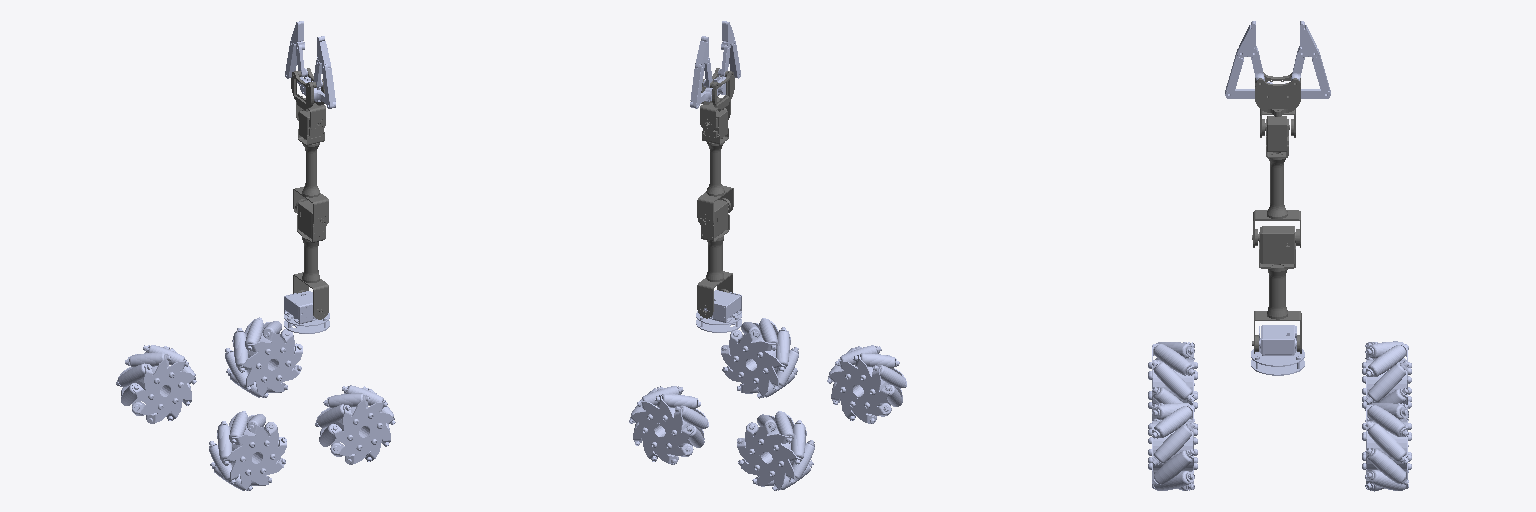
robot.urdf — mirte_master:
<?xml version="1.0" ?>
<!-- =================================================================================== -->
<!-- |    This document was autogenerated by xacro from /home/balaji/ro47007_mirte_ws/src/mirte-ros-packages/mirte_description/mirte_master_description/urdf/mirte_master.xacro | -->
<!-- |    EDITING THIS FILE BY HAND IS NOT RECOMMENDED                                 | -->
<!-- =================================================================================== -->
<robot name="mirte_master">
  <mujoco>
    <visual><global offwidth="1280" offheight="960"/></visual>
    <compiler meshdir="." balanceinertia="true" discardvisual="false" fusestatic="false"/>
  </mujoco>

  <material name="blue">
    <color rgba="0.203125 0.23828125 0.28515625 1.0"/>
  </material>
  <gazebo reference="base_link">
    <material>Gazebo/White</material>
    <gravity>true</gravity>
  </gazebo>
  <gazebo reference="wheel_front_left">
    <selfCollide>false</selfCollide>
    <gravity>true</gravity>
    <mu1>0.0</mu1>
    <mu2>0.0</mu2>
    <material>Gazebo/DarkGrey</material>
  </gazebo>
  <gazebo reference="wheel_rear_left">
    <selfCollide>false</selfCollide>
    <gravity>true</gravity>
    <mu1>0.0</mu1>
    <mu2>0.0</mu2>
    <material>Gazebo/DarkGrey</material>
  </gazebo>
  <gazebo reference="wheel_front_right">
    <selfCollide>false</selfCollide>
    <gravity>true</gravity>
    <mu1>0.0</mu1>
    <mu2>0.0</mu2>
    <material>Gazebo/DarkGrey</material>
  </gazebo>
  <gazebo reference="wheel_rear_right">
    <selfCollide>false</selfCollide>
    <gravity>true</gravity>
    <mu1>0.0</mu1>
    <mu2>0.0</mu2>
    <material>Gazebo/DarkGrey</material>
  </gazebo>
  <ros2_control name="mecanumdrive" type="system">
    <hardware>
      <plugin>gazebo_ros2_control/GazeboSystem</plugin>
    </hardware>
    <joint name="front_left_wheel_joint">
      <command_interface name="velocity"/>
      <state_interface name="position"/>
      <state_interface name="velocity"/>
    </joint>
    <joint name="rear_left_wheel_joint">
      <command_interface name="velocity"/>
      <state_interface name="position"/>
      <state_interface name="velocity"/>
    </joint>
    <joint name="rear_right_wheel_joint">
      <command_interface name="velocity"/>
      <state_interface name="position"/>
      <state_interface name="velocity"/>
    </joint>
    <joint name="front_right_wheel_joint">
      <command_interface name="velocity"/>
      <state_interface name="position"/>
      <state_interface name="velocity"/>
    </joint>
  </ros2_control>
  <ros2_control name="ros2_arm_control" type="system">
    <hardware>
      <plugin>gazebo_ros2_control/GazeboSystem</plugin>
    </hardware>
    <joint name="shoulder_pan_joint">
      <command_interface name="position"/>
      <state_interface name="position"/>
      <state_interface name="velocity"/>
    </joint>
    <joint name="shoulder_lift_joint">
      <command_interface name="position"/>
      <state_interface name="position">
        <param name="initial_value">-1.56</param>
      </state_interface>
      <state_interface name="velocity"/>
    </joint>
    <joint name="elbow_joint">
      <command_interface name="position"/>
      <state_interface name="position">
        <param name="initial_value">-1.56</param>
      </state_interface>
      <state_interface name="velocity"/>
    </joint>
    <joint name="wrist_joint">
      <command_interface name="position"/>
      <state_interface name="position">
        <param name="initial_value">1.56</param>
      </state_interface>
      <state_interface name="velocity"/>
    </joint>
  </ros2_control>
  <ros2_control name="ros2_gripper_control" type="system">
    <hardware>
      <plugin>gazebo_ros2_control/GazeboSystem</plugin>
    </hardware>
    <joint name="gripper_joint">
      <command_interface name="position"/>
      <state_interface name="position"/>
      <state_interface name="velocity"/>
    </joint>
    <joint name="_Gripper_joint_r">
      <param name="mimic">gripper_joint</param>
      <param name="multiplier">-1</param>
      <command_interface name="position"/>
      <state_interface name="position"/>
      <state_interface name="velocity"/>
    </joint>
    <joint name="_gripper_link_joint_l">
      <param name="mimic">gripper_joint</param>
      <param name="multiplier">-1.4</param>
      <command_interface name="position"/>
      <state_interface name="position"/>
      <state_interface name="velocity"/>
    </joint>
    <joint name="_gripper_link_joint_r">
      <param name="mimic">gripper_joint</param>
      <param name="multiplier">1.4</param>
      <command_interface name="position"/>
      <state_interface name="position"/>
      <state_interface name="velocity"/>
    </joint>
  </ros2_control>
  <gazebo>
    <plugin filename="libgazebo_ros2_control.so" name="gazebo_ros2_control">
      <parameters>/home/balaji/ro47007_mirte_ws/install/share/mirte_base_control/config/mirte_base_control.yaml</parameters>
      <parameters>/home/balaji/ro47007_mirte_ws/install/share/mirte_master_arm_control/config/mirte_master_arm_control.yaml</parameters>
    </plugin>
    <plugin filename="libgazebo_ros_planar_move.so" name="gazebo_planar_move">
      <robot_base_frame>base_link</robot_base_frame>
    </plugin>
    <plugin filename="libgazebo_ros_p3d.so" name="libgazebo_ros_p3d">
      <ros>
        <namespace>groundtruth</namespace>
        <remapping>odom:=odom</remapping>
      </ros>
      <frame_name>world</frame_name>
      <body_name>base_link</body_name>
      <update_rate>200.0</update_rate>
      <gaussian_noise>0.0</gaussian_noise>
    </plugin>
  </gazebo>
  <link name="base_link"/>
  <gazebo reference="base_link">
    <kinematic>1</kinematic>
  </gazebo>
  <joint name="frame_base_joint" type="fixed">
    <origin rpy="0 0 1.5707963267948966" xyz="0 0 0.10"/>
    <parent link="base_link"/>
    <child link="frame_link"/>
  </joint>
  <link name="frame_link">
    <inertial>
      <origin xyz="-0.00024285 0.0082178 -0.0437661"/>
      <mass value="5.0"/>
      <inertia ixx="0.03416666666666667" ixy="0" ixz="0" iyy="0.016541666666666666" iyz="0" izz="0.047708333333333346"/>
    </inertial>
    <visual>
      <geometry>
        <mesh filename="meshes/frame_link.STL"/>
      </geometry>
      <material name="">
        <color rgba="0.52941 0.54902 0.54902 1"/>
      </material>
    </visual>
    <collision>
      <origin xyz="0 0 -0.03"/>
      <geometry>
        <box size="0.19 0.28 0.06"/>
      </geometry>
    </collision>
    <collision>
      <origin xyz="0 0.05 0.045"/>
      <geometry>
        <box size="0.18 0.16 0.05"/>
      </geometry>
    </collision>
    <collision>
      <origin rpy="0 0 0.5672320068981571" xyz="-0.062156 -0.002558 0.0125"/>
      <geometry>
        <box size="0.013 0.03 0.025"/>
      </geometry>
    </collision>
    <collision>
      <origin rpy="0 0 -0.5672320068981571" xyz="0.064835 0.001664 0.0125"/>
      <geometry>
        <box size="0.013 0.04 0.025"/>
      </geometry>
    </collision>
  </link>
  <!-- 0.025   -1 -->
  <link name="front_left_wheel">
    <inertial>
      <origin xyz="0 0 0.025"/>
      <mass value="2.15"/>
      <inertia ixx="0.0018857291666666668" ixy="0" ixz="0" iyy="0.0018857291666666668" iyz="0" izz="0.0026875000000000002"/>
    </inertial>
    <visual>
      <geometry>
        <mesh filename="meshes/wheel_left.STL"/>
      </geometry>
      <material name="">
        <color rgba="0.79216 0.81961 0.93333 1"/>
      </material>
    </visual>
    <collision>
      <origin xyz="0 0 0.025"/>
      <geometry>
        <cylinder length="0.055" radius="0.05"/>
      </geometry>
    </collision>
  </link>
  <joint name="front_left_wheel_joint" type="continuous">
    <origin rpy="1.5708 0 -1.5708" xyz="0.153 -0.085 -0.0455"/>
    <parent link="frame_link"/>
    <child link="front_left_wheel"/>
    <axis xyz="0 0 -1"/>
  </joint>
  <transmission name="front_left_wheel_transmission">
    <type>transmission_interface/SimpleTransmission</type>
    <joint name="front_left_wheel_joint">
      <hardwareInterface>hardware_interface/VelocityJointInterface</hardwareInterface>
    </joint>
    <actuator name="front_left_wheel_actuator">
      <mechanicalReduction>1</mechanicalReduction>
    </actuator>
  </transmission>
  <link name="rear_left_wheel">
    <inertial>
      <origin xyz="0 0 0.025"/>
      <mass value="2.15"/>
      <inertia ixx="0.0018857291666666668" ixy="0" ixz="0" iyy="0.0018857291666666668" iyz="0" izz="0.0026875000000000002"/>
    </inertial>
    <visual>
      <geometry>
        <mesh filename="meshes/wheel_right.STL"/>
      </geometry>
      <material name="">
        <color rgba="0.79216 0.81961 0.93333 1"/>
      </material>
    </visual>
    <collision>
      <origin xyz="0 0 0.025"/>
      <geometry>
        <cylinder length="0.055" radius="0.05"/>
      </geometry>
    </collision>
  </link>
  <joint name="rear_left_wheel_joint" type="continuous">
    <origin rpy="1.5708 0 -1.5708" xyz="0.153 0.085 -0.0455"/>
    <parent link="frame_link"/>
    <child link="rear_left_wheel"/>
    <axis xyz="0 0 -1"/>
  </joint>
  <transmission name="rear_left_wheel_transmission">
    <type>transmission_interface/SimpleTransmission</type>
    <joint name="rear_left_wheel_joint">
      <hardwareInterface>hardware_interface/VelocityJointInterface</hardwareInterface>
    </joint>
    <actuator name="rear_left_wheel_actuator">
      <mechanicalReduction>1</mechanicalReduction>
    </actuator>
  </transmission>
  <link name="front_right_wheel">
    <inertial>
      <origin xyz="0 0 -0.025"/>
      <mass value="2.15"/>
      <inertia ixx="0.0018857291666666668" ixy="0" ixz="0" iyy="0.0018857291666666668" iyz="0" izz="0.0026875000000000002"/>
    </inertial>
    <visual>
      <geometry>
        <mesh filename="meshes/wheel_right.STL"/>
      </geometry>
      <material name="">
        <color rgba="0.79216 0.81961 0.93333 1"/>
      </material>
    </visual>
    <collision>
      <origin xyz="0 0 -0.025"/>
      <geometry>
        <cylinder length="0.055" radius="0.05"/>
      </geometry>
    </collision>
  </link>
  <joint name="front_right_wheel_joint" type="continuous">
    <origin rpy="1.5708 0 -1.5708" xyz="-0.098 -0.085 -0.0455"/>
    <parent link="frame_link"/>
    <child link="front_right_wheel"/>
    <axis xyz="0 0 -1"/>
  </joint>
  <transmission name="front_right_wheel_transmission">
    <type>transmission_interface/SimpleTransmission</type>
    <joint name="front_right_wheel_joint">
      <hardwareInterface>hardware_interface/VelocityJointInterface</hardwareInterface>
    </joint>
    <actuator name="front_right_wheel_actuator">
      <mechanicalReduction>1</mechanicalReduction>
    </actuator>
  </transmission>
  <link name="rear_right_wheel">
    <inertial>
      <origin xyz="0 0 -0.025"/>
      <mass value="2.15"/>
      <inertia ixx="0.0018857291666666668" ixy="0" ixz="0" iyy="0.0018857291666666668" iyz="0" izz="0.0026875000000000002"/>
    </inertial>
    <visual>
      <geometry>
        <mesh filename="meshes/wheel_left.STL"/>
      </geometry>
      <material name="">
        <color rgba="0.79216 0.81961 0.93333 1"/>
      </material>
    </visual>
    <collision>
      <origin xyz="0 0 -0.025"/>
      <geometry>
        <cylinder length="0.055" radius="0.05"/>
      </geometry>
    </collision>
  </link>
  <joint name="rear_right_wheel_joint" type="continuous">
    <origin rpy="1.5708 0 -1.5708" xyz="-0.098 0.085 -0.0455"/>
    <parent link="frame_link"/>
    <child link="rear_right_wheel"/>
    <axis xyz="0 0 -1"/>
  </joint>
  <transmission name="rear_right_wheel_transmission">
    <type>transmission_interface/SimpleTransmission</type>
    <joint name="rear_right_wheel_joint">
      <hardwareInterface>hardware_interface/VelocityJointInterface</hardwareInterface>
    </joint>
    <actuator name="rear_right_wheel_actuator">
      <mechanicalReduction>1</mechanicalReduction>
    </actuator>
  </transmission>
  <link name="shoulder_pan">
    <inertial>
      <origin rpy="0 0 0" xyz="-1.27894101951934E-05 0.0208058767653727 0.00585680210359747"/>
      <mass value="0.0689676051678483"/>
      <inertia ixx="1.10736817655159E-05" ixy="-9.06572517495388E-09" ixz="-2.13237951815141E-10" iyy="2.24480121987499E-05" iyz="-4.10984989642458E-07" izz="1.70252517510809E-05"/>
    </inertial>
    <visual>
      <origin rpy="0 0 0" xyz="0 0 0"/>
      <geometry>
        <mesh filename="meshes/arm_Rot.STL"/>
      </geometry>
      <material name="">
        <color rgba="0.792156862745098 0.819607843137255 0.933333333333333 1"/>
      </material>
    </visual>
    <collision>
      <origin rpy="0 0 0" xyz="0 0 0"/>
      <geometry>
        <mesh filename="meshes/arm_Rot.STL"/>
      </geometry>
    </collision>
  </link>
  <joint name="shoulder_pan_joint" type="revolute">
    <origin rpy="1.5708 0 3.1416" xyz="0 -0.079274 0.06"/>
    <parent link="frame_link"/>
    <child link="shoulder_pan"/>
    <axis xyz="0 1 0"/>
    <limit effort="2.0" lower="-1.5707963267948966" upper="1.5707963267948966" velocity="2.0"/>
  </joint>
  <link name="shoulder_lift">
    <inertial>
      <origin rpy="0 0 0" xyz="0.0764974362945755 0.000442680770353329 -4.93690401059954E-09"/>
      <mass value="0.104616018825837"/>
      <inertia ixx="3.85677839717214E-05" ixy="1.84827309047044E-08" ixz="1.42612941509626E-12" iyy="2.54245117502168E-05" iyz="-2.05142765424474E-12" izz="5.51611966703411E-05"/>
    </inertial>
    <visual>
      <origin rpy="0 0 0" xyz="0 0 0"/>
      <geometry>
        <mesh filename="meshes/arm_Shoulder.STL"/>
      </geometry>
      <material name="">
        <color rgba="0.501960784313725 0.501960784313725 0.501960784313725 1"/>
      </material>
    </visual>
    <collision>
      <origin rpy="0 0 0" xyz="0 0 0"/>
      <geometry>
        <mesh filename="meshes/arm_Shoulder.STL"/>
      </geometry>
    </collision>
  </link>
  <joint name="shoulder_lift_joint" type="revolute">
    <origin rpy="3.1416 0 1.5708" xyz="0 0.0281 -0.00625"/>
    <parent link="shoulder_pan"/>
    <child link="shoulder_lift"/>
    <axis xyz="0 1 0"/>
    <limit effort="2.0" lower="-1.5707963267948966" upper="1.5707963267948966" velocity="2.0"/>
  </joint>
  <link name="elbow">
    <inertial>
      <origin rpy="0 0 0" xyz="0.000768647609078278 0.0642294520091309 -2.34835863116567E-08"/>
      <mass value="0.0709795960901316"/>
      <inertia ixx="2.06491501981418E-05" ixy="1.76077623308388E-08" ixz="-6.06300089698489E-13" iyy="2.45686930201746E-05" iyz="3.04033870141042E-12" izz="3.79131240892547E-05"/>
    </inertial>
    <visual>
      <origin rpy="0 0 0" xyz="0 0 0"/>
      <geometry>
        <mesh filename="meshes/arm_Elbow.STL"/>
      </geometry>
      <material name="">
        <color rgba="0.501960784313725 0.501960784313725 0.501960784313725 1"/>
      </material>
    </visual>
    <collision>
      <origin rpy="0 0 0" xyz="0 0 0"/>
      <geometry>
        <mesh filename="meshes/arm_Elbow.STL"/>
      </geometry>
    </collision>
  </link>
  <joint name="elbow_joint" type="revolute">
    <origin rpy="-3.1416 0 1.5708" xyz="0.1378 0 0"/>
    <parent link="shoulder_lift"/>
    <child link="elbow"/>
    <axis xyz="1 0 0"/>
    <limit effort="2.0" lower="-1.5707963267948966" upper="1.5707963267948966" velocity="2.0"/>
  </joint>
  <link name="wrist">
    <inertial>
      <origin rpy="0 0 0" xyz="0.0225315136140379 0.000488092971965825 -2.74405760168628E-06"/>
      <mass value="0.0464803878756425"/>
      <inertia ixx="1.36228105923869E-05" ixy="-2.7486243117372E-08" ixz="-2.82180089490711E-08" iyy="7.22412070962973E-06" iyz="3.4652740053439E-09" izz="1.75204377049058E-05"/>
    </inertial>
    <visual>
      <origin rpy="0 0 0" xyz="0 0 0"/>
      <geometry>
        <mesh filename="meshes/arm_Wrist.STL"/>
      </geometry>
      <material name="">
        <color rgba="0.501960784313725 0.501960784313725 0.501960784313725 1"/>
      </material>
    </visual>
    <collision>
      <origin rpy="0 0 0" xyz="0 0 0"/>
      <geometry>
        <mesh filename="meshes/arm_Wrist.STL"/>
      </geometry>
    </collision>
  </link>
  <joint name="wrist_joint" type="revolute">
    <origin rpy="3.1416 0 1.5708" xyz="-0.00014 0.14265 0"/>
    <parent link="elbow"/>
    <child link="wrist"/>
    <axis xyz="0 1 0"/>
    <limit effort="2.0" lower="-1.5707963267948966" upper="1.5707963267948966" velocity="2.0"/>
  </joint>
  <link name="gripper">
    <inertial>
      <origin rpy="0 0 0" xyz="0.0128439388984141 0.00467107677719844 -0.023531822516204"/>
      <mass value="0.0109603788959771"/>
      <inertia ixx="1.64287457972505E-06" ixy="-2.54915969005551E-10" ixz="-3.17766452649769E-07" iyy="2.96639543247368E-06" iyz="-7.8877045337556E-08" izz="1.49193844890504E-06"/>
    </inertial>
    <visual>
      <origin rpy="0 0 0" xyz="0 0 0"/>
      <geometry>
        <mesh filename="meshes/Gripper.STL"/>
      </geometry>
      <material name="">
        <color rgba="0.792156862745098 0.819607843137255 0.933333333333333 1"/>
      </material>
    </visual>
    <collision>
      <origin rpy="0 0 0" xyz="0 0 0"/>
      <geometry>
        <mesh filename="meshes/Gripper.STL"/>
      </geometry>
    </collision>
  </link>
  <joint name="gripper_joint" type="revolute">
    <origin rpy="-1.5708 0 0" xyz="0.0435 -0.012 0.0045"/>
    <parent link="wrist"/>
    <child link="gripper"/>
    <axis xyz="0 -1 0"/>
    <limit effort="2.0" lower="-.20" upper="0.25" velocity="2.0"/>
  </joint>
  <link name="_gripper_link_r">
    <inertial>
      <origin rpy="0 0 0" xyz="-1.28017477174502E-08 0.00327806945611438 -0.015628977594268"/>
      <mass value="0.00257857268754656"/>
      <inertia ixx="4.78055533789155E-07" ixy="-5.230783542464E-14" ixz="-2.66258471113313E-13" iyy="4.85504704619794E-07" iyz="-3.012555423281E-08" izz="3.42900323604584E-08"/>
    </inertial>
    <visual>
      <origin rpy="0 0 0" xyz="0 0 0"/>
      <geometry>
        <mesh filename="meshes/_gripper_link_r.STL"/>
      </geometry>
      <material name="">
        <color rgba="0.792156862745098 0.819607843137255 0.933333333333333 1"/>
      </material>
    </visual>
    <collision>
      <origin rpy="0 0 0" xyz="0 0 0"/>
      <geometry>
        <mesh filename="meshes/_gripper_link_r.STL"/>
      </geometry>
    </collision>
  </link>
  <joint name="_gripper_link_joint_r" type="revolute">
    <origin rpy="1.5708 0 -1.3641" xyz="0.0605 0.0205 -0.0055"/>
    <parent link="wrist"/>
    <child link="_gripper_link_r"/>
    <axis xyz="0 -1 0"/>
    <limit effort="0.0" lower="-3.14" upper="3.14" velocity="0.0"/>
    <mimic joint="gripper_joint" multiplier="1.4"/>
  </joint>
  <link name="gripper_finger_r">
    <inertial>
      <origin rpy="0 0 0" xyz="0.0053582194655247 0.00456985538673528 -0.0146658643393019"/>
      <mass value="0.00531205810762776"/>
      <inertia ixx="6.56191216382328E-07" ixy="4.9417968242523E-09" ixz="-1.23756532787867E-07" iyy="7.67327744037516E-07" iyz="3.35637410041389E-08" izz="1.97644006824673E-07"/>
    </inertial>
    <visual>
      <origin rpy="0 0 0" xyz="0 0 0"/>
      <geometry>
        <mesh filename="meshes/gripper_finger_r.STL"/>
      </geometry>
      <material name="">
        <color rgba="0.792156862745098 0.819607843137255 0.933333333333333 1"/>
      </material>
    </visual>
    <collision>
      <origin rpy="0 0 0" xyz="0 0 0"/>
      <geometry>
        <mesh filename="meshes/gripper_finger_r.STL"/>
      </geometry>
    </collision>
  </link>
  <joint name="gripper_finger_joint_r" type="fixed">
    <origin rpy="0 0.20667 3.1416" xyz="0 0.01 -0.037"/>
    <parent link="_gripper_link_r"/>
    <child link="gripper_finger_r"/>
    <axis xyz="0 0 1"/>
  </joint>
  <link name="_gripper_link_l">
    <inertial>
      <origin rpy="0 0 0" xyz="-2.05686406795635E-09 0.00327805387383495 -0.0156289677422455"/>
      <mass value="0.0025785751096632"/>
      <inertia ixx="4.78055731035803E-07" ixy="1.11114248069431E-14" ixz="5.45978048241403E-14" iyy="4.85504889003676E-07" iyz="-3.01256260104972E-08" izz="3.4290092499709E-08"/>
    </inertial>
    <visual>
      <origin rpy="0 0 0" xyz="0 0 0"/>
      <geometry>
        <mesh filename="meshes/_gripper_link_l.STL"/>
      </geometry>
      <material name="">
        <color rgba="0.792156862745098 0.819607843137255 0.933333333333333 1"/>
      </material>
    </visual>
    <collision>
      <origin rpy="0 0 0" xyz="0 0 0"/>
      <geometry>
        <mesh filename="meshes/_gripper_link_l.STL"/>
      </geometry>
    </collision>
  </link>
  <joint name="_gripper_link_joint_l" type="revolute">
    <origin rpy="1.5708 0 -1.7775" xyz="0.0605 -0.0205 -0.0055"/>
    <parent link="wrist"/>
    <child link="_gripper_link_l"/>
    <axis xyz="0 -1 0"/>
    <limit effort="0.0" lower="-3.14" upper="3.14" velocity="0.0"/>
    <mimic joint="gripper_joint" multiplier="-1.4"/>
  </joint>
  <link name="gripper_finger_l">
    <inertial>
      <origin rpy="0 0 0" xyz="0.00535821399237165 0.00543015238565805 -0.0146658496889369"/>
      <mass value="0.00531205810762777"/>
      <inertia ixx="6.56191216382329E-07" ixy="-4.94179682425222E-09" ixz="-1.23756532787868E-07" iyy="7.67327744037519E-07" iyz="-3.35637410041387E-08" izz="1.97644006824674E-07"/>
    </inertial>
    <visual>
      <origin rpy="0 0 0" xyz="0 0 0"/>
      <geometry>
        <mesh filename="meshes/gripper_finger_l.STL"/>
      </geometry>
      <material name="">
        <color rgba="0.792156862745098 0.819607843137255 0.933333333333333 1"/>
      </material>
    </visual>
    <collision>
      <origin rpy="0 0 0" xyz="0 0 0"/>
      <geometry>
        <mesh filename="meshes/gripper_finger_l.STL"/>
      </geometry>
    </collision>
  </link>
  <joint name="gripper_finger_joint_l" type="fixed">
    <origin rpy="0 0.20667 0" xyz="0 0 -0.037"/>
    <parent link="_gripper_link_l"/>
    <child link="gripper_finger_l"/>
    <axis xyz="0 0 1"/>
  </joint>
  <link name="_Gripper_r">
    <inertial>
      <origin rpy="0 0 0" xyz="-0.011058953981311 0.00572378908343621 -0.0203029402870159"/>
      <mass value="0.0127576574866818"/>
      <inertia ixx="1.91784274511554E-06" ixy="-2.13316668505462E-10" ixz="3.18097729104346E-07" iyy="3.19294602407598E-06" iyz="-1.86219200901589E-07" izz="1.63755141963222E-06"/>
    </inertial>
    <visual>
      <origin rpy="0 0 0" xyz="0 0 0"/>
      <geometry>
        <mesh filename="meshes/_Gripper_r.STL"/>
      </geometry>
      <material name="">
        <color rgba="0.792156862745098 0.819607843137255 0.933333333333333 1"/>
      </material>
    </visual>
    <collision>
      <origin rpy="0 0 0" xyz="0 0 0"/>
      <geometry>
        <mesh filename="meshes/_Gripper_r.STL"/>
      </geometry>
    </collision>
  </link>
  <joint name="_Gripper_joint_r" type="revolute">
    <origin rpy="-1.5708 0 -3.1416" xyz="0.0435 0.012 0.0045"/>
    <parent link="wrist"/>
    <child link="_Gripper_r"/>
    <axis xyz="0 -1 0"/>
    <limit effort="2.0" lower="-.25" upper="0.20" velocity="2.0"/>
    <mimic joint="gripper_joint" multiplier="-1"/>
  </joint>
  <gazebo>
    <plugin filename="libgazebo_grasp_fix.so" name="gazebo_grasp_fix">
      <arm>
        <arm_name>finger_gripper</arm_name>
        <palm_link>wrist</palm_link>
        <gripper_link>gripper</gripper_link>
        <gripper_link>_Gripper_r</gripper_link>
        <gripper_link>_gripper_link_l</gripper_link>
        <gripper_link>gripper_finger_l</gripper_link>
        <gripper_link>_gripper_link_r</gripper_link>
        <gripper_link>gripper_finger_r</gripper_link>
      </arm>
      <forces_angle_tolerance>100</forces_angle_tolerance>
      <update_rate>4</update_rate>
      <grip_count_threshold>4</grip_count_threshold>
      <max_grip_count>8</max_grip_count>
      <release_tolerance>0.005</release_tolerance>
      <disable_collisions_on_attach>false</disable_collisions_on_attach>
    </plugin>
  </gazebo>
</robot>

--- What the picture shows (computed from the rendered views, not written in the file) ---
3 views of the same robot in one strip: view 1: azimuth 30°, elevation 25°; view 2: azimuth 150°, elevation 25°; view 3: azimuth 270°, elevation 25° (orthographic).
Robot: mirte_master — 16 links, 15 joints (8 revolute, 4 continuous, 3 fixed); root link base_link; default pose: every joint at zero.
Visible links, largest first — view 1: rear_right_wheel, front_left_wheel, front_right_wheel, rear_left_wheel, shoulder_lift, elbow, shoulder_pan, wrist, _Gripper_r; view 2: front_right_wheel, rear_left_wheel, rear_right_wheel, front_left_wheel, shoulder_lift, elbow, shoulder_pan, wrist, gripper; view 3: front_right_wheel, front_left_wheel, shoulder_lift, rear_left_wheel, rear_right_wheel, elbow, shoulder_pan, wrist, _Gripper_r, gripper.
Link boxes in pixels (<box>): rear_right_wheel: <box>209,411,286,490</box>; front_left_wheel: <box>225,317,302,397</box>; front_right_wheel: <box>315,385,395,464</box>; rear_left_wheel: <box>116,345,196,423</box>; shoulder_lift: <box>293,200,328,319</box>; elbow: <box>293,111,328,228</box>; shoulder_pan: <box>284,291,329,333</box>; wrist: <box>291,68,325,131</box>; _Gripper_r: <box>305,63,335,108</box>; front_right_wheel: <box>721,318,798,398</box>; rear_left_wheel: <box>737,411,814,490</box>; rear_right_wheel: <box>827,345,906,423</box>; front_left_wheel: <box>629,386,708,464</box>; shoulder_lift: <box>697,200,732,318</box>; elbow: <box>697,110,733,227</box>; shoulder_pan: <box>696,290,741,332</box>; wrist: <box>700,68,734,131</box>; gripper: <box>690,63,717,108</box>; front_right_wheel: <box>1148,403,1197,490</box>; front_left_wheel: <box>1362,403,1411,491</box>; shoulder_lift: <box>1252,226,1301,353</box>; rear_left_wheel: <box>1362,341,1411,421</box>; rear_right_wheel: <box>1148,342,1197,421</box>; elbow: <box>1252,116,1300,247</box>; shoulder_pan: <box>1251,325,1304,375</box>; wrist: <box>1255,72,1300,137</box>; _Gripper_r: <box>1225,48,1272,98</box>; gripper: <box>1285,48,1330,98</box>.
Bounding box of the posed robot: 0.2745 × 0.309 × 0.601 m (x, y, z).
Meshes: 13 distinct files referenced, 14 mesh visuals loaded (12 binary STL); not drawn: 1 (reference not matched to a file when rendering).
